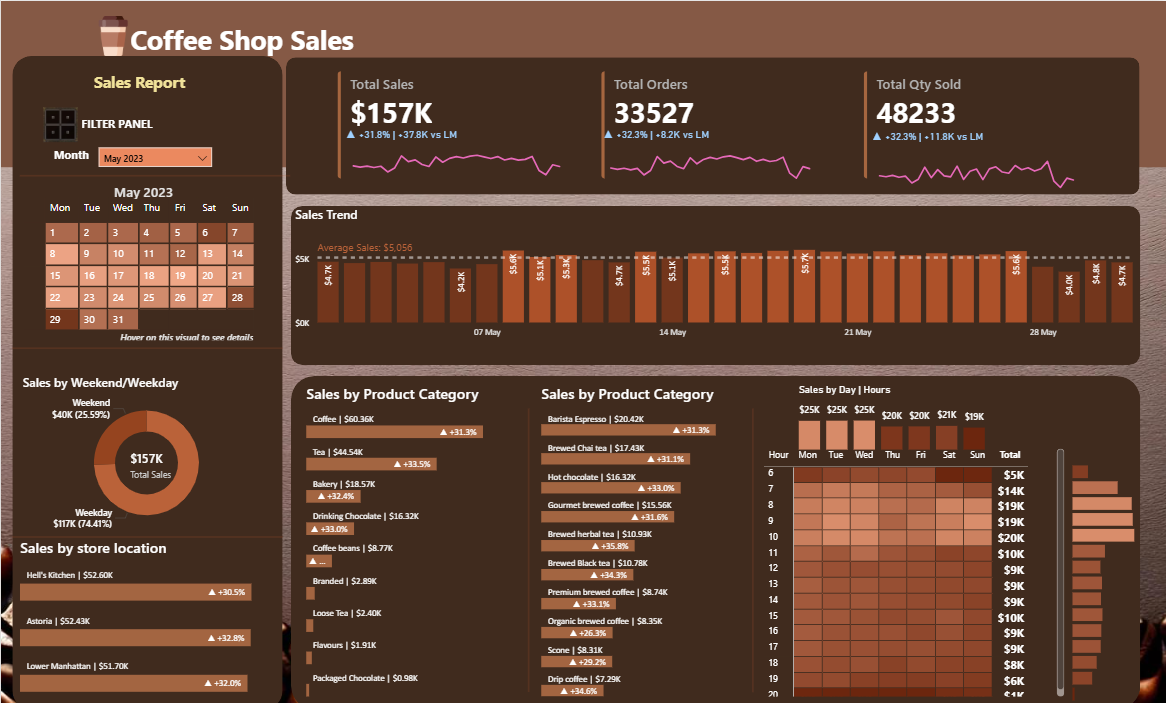

The dashboard page shown, as its layout file describes it:
{"tool":"powerbi","page":{"name":"Page 1","canvas":[1400,850],"ordinal":0},"visuals":[{"type":"shape","box":[0,0,1400.3,199.6],"z":0},{"type":"shape","box":[12.8,65.5,324.7,784.8],"z":1000},{"type":"shape","box":[342.2,67.5,1025.1,165.1],"z":2000},{"type":"slicer","fields":{"Values":["Date_Table.Month Year"]},"box":[112.6,171.1,145.6,33],"z":3000},{"type":"group","id":"g1","title":"Group 1","box":[387.4,66.9,306.2,163.8],"z":4000},{"type":"cardVisual","fields":{"Data":["Transactions.Total Sales"]},"box":[387.4,66.9,306.2,163.8],"z":4000,"group":"g1"},{"type":"cardVisual","fields":{"Data":["Transactions.Total Orders"]},"box":[703.6,66.9,306.2,163.8],"z":4000,"group":"g2"},{"type":"cardVisual","fields":{"Data":["Transactions.Total Qty Sold"]},"box":[1019.8,66.9,306.2,163.8],"z":4000,"group":"g3"},{"type":"group","id":"g2","title":"Group 1","box":[703.6,66.9,306.2,166.7],"z":5000},{"type":"group","id":"g3","title":"Group 1","box":[1019.8,66.9,306.2,166.7],"z":6000},{"type":"lineChart","fields":{"Y":["Transactions.Total Sales"],"Category":["Date_Table.Date Hierarchy.Date"]},"box":[717.7,152.5,268.7,81],"z":6000,"group":"g2"},{"type":"lineChart","fields":{"Category":["Date_Table.Date Hierarchy.Date"],"Y":["Transactions.Total Qty Sold"]},"box":[1041.1,154,262.7,79.5],"z":6000,"group":"g3"},{"type":"pivotTable","fields":{"Rows":["Date_Table.Week Number"],"Columns":["Date_Table.Day Name"],"Values":["Min(Date_Table.Day Number)"]},"box":[22.8,230.7,304.8,172.3],"z":7000},{"type":"cardVisual","fields":{"Data":["Min(Date_Table.Month Year)"]},"box":[106.8,199.4,135.3,55.5],"z":8000},{"type":"cardVisual","fields":{"Data":["Transactions.Note"]},"box":[113.9,380.3,233.6,45.6],"z":9000},{"type":"shape","box":[12.8,395.9,324.7,41.3],"z":10000},{"type":"shape","box":[22.8,189.4,324.7,41.3],"z":11000},{"type":"donutChart","title":"Sales by Weekend/Weekday","fields":{"Category":["Date_Table.Weekend/Weekday"],"Y":["Transactions.Total Sales"]},"box":[21.4,447.2,307.6,195.1],"z":12000},{"type":"cardVisual","fields":{"Data":["Transactions.Total Sales"]},"box":[126.8,524.1,115.4,66.9],"z":13000},{"type":"shape","box":[12.8,622.4,324.7,41.3],"z":14000},{"type":"clusteredBarChart","title":"Sales by store location","fields":{"Category":["Transactions.store_location"],"Y":["Transactions.PlaceHolder","Transactions.Total Sales"]},"box":[18.5,643.8,313.3,193.7],"z":15000},{"type":"shape","box":[347.5,246.4,1019.8,190.9],"z":16000},{"type":"columnChart","title":"Sales Trend","fields":{"Category":["Transactions.transaction_date"],"Y":["Transactions.Total Sales"]},"box":[347.5,246.4,1019.8,168.1],"z":17000},{"type":"shape","box":[347.5,450.1,1019.8,400.2],"z":18000},{"type":"clusteredBarChart","title":"Sales by Product Category","fields":{"Y":["Transactions.PlaceHolder","Transactions.Total Sales"],"Category":["Transactions.product_category"]},"box":[361.8,458.6,250.7,381.7],"z":19000},{"type":"shape","box":[894.5,489.3,16.5,340.7],"z":20000},{"type":"clusteredBarChart","title":"Sales by Product Category","fields":{"Y":["Transactions.PlaceHolder","Transactions.Total Sales"],"Category":["Transactions.product_type"]},"box":[643.9,459.3,250.6,381.2],"z":21000},{"type":"shape","box":[622.4,490,21.4,340.4],"z":22000},{"type":"pivotTable","fields":{"Rows":["Transactions.Hour"],"Columns":["Date_Table.Day Name"],"Values":["Transactions.Total Sales"]},"box":[911,532.8,370.7,307.7],"z":23000},{"type":"barChart","fields":{"Y":["Transactions.Total Sales"],"Category":["Transactions.Hour"]},"box":[1281.7,544.8,85.5,300.2],"z":24000},{"type":"columnChart","title":"Sales by Day | Hours","fields":{"Y":["Transactions.Total Sales"],"Category":["Date_Table.Day Name"]},"box":[953,459.3,234.1,85.5],"z":25000},{"type":"textbox","box":[149.6,20,296.2,55.5],"z":26000},{"type":"textbox","box":[58.5,171.1,67.5,28.5],"z":27000},{"type":"textbox","box":[106.6,79.5,187.6,40.5],"z":28000},{"type":"textbox","box":[91.6,133.6,127.6,33],"z":29000},{"type":"image","box":[51,123.1,40.5,51],"z":30000},{"type":"image","box":[93.1,18,82.5,48],"z":31000},{"type":"lineChart","fields":{"Category":["Date_Table.Date Hierarchy.Date"],"Y":["Transactions.Total Sales"]},"box":[407.8,152.5,277.7,75],"z":31001,"group":"g1"}]}

Visuals, with their boxes in screenshot pixels (x1, y1, x2, y2), scaled from the page's 1400x850 canvas onto the 1166x703 screenshot:
shape: (x1=0, y1=0, x2=1165, y2=165)
shape: (x1=11, y1=54, x2=281, y2=702)
shape: (x1=285, y1=56, x2=1139, y2=192)
slicer - Date_Table.Month Year: (x1=94, y1=142, x2=215, y2=169)
"Group 1" group: (x1=323, y1=55, x2=578, y2=191)
cardVisual - Transactions.Total Sales: (x1=323, y1=55, x2=578, y2=191)
cardVisual - Transactions.Total Orders: (x1=586, y1=55, x2=841, y2=191)
cardVisual - Transactions.Total Qty Sold: (x1=849, y1=55, x2=1104, y2=191)
"Group 1" group: (x1=586, y1=55, x2=841, y2=193)
"Group 1" group: (x1=849, y1=55, x2=1104, y2=193)
lineChart - Transactions.Total Sales x Date_Table.Date Hierarchy.Date: (x1=598, y1=126, x2=822, y2=193)
lineChart - Date_Table.Date Hierarchy.Date x Transactions.Total Qty Sold: (x1=867, y1=127, x2=1086, y2=193)
pivotTable - Date_Table.Week Number x Date_Table.Day Name: (x1=19, y1=191, x2=273, y2=333)
cardVisual - Min(Date_Table.Month Year): (x1=89, y1=165, x2=202, y2=211)
cardVisual - Transactions.Note: (x1=95, y1=315, x2=289, y2=352)
shape: (x1=11, y1=327, x2=281, y2=362)
shape: (x1=19, y1=157, x2=289, y2=191)
"Sales by Weekend/Weekday" donutChart: (x1=18, y1=370, x2=274, y2=531)
cardVisual - Transactions.Total Sales: (x1=106, y1=433, x2=202, y2=489)
shape: (x1=11, y1=515, x2=281, y2=549)
"Sales by store location" clusteredBarChart: (x1=15, y1=532, x2=276, y2=693)
shape: (x1=289, y1=204, x2=1139, y2=362)
"Sales Trend" columnChart: (x1=289, y1=204, x2=1139, y2=343)
shape: (x1=289, y1=372, x2=1139, y2=702)
"Sales by Product Category" clusteredBarChart: (x1=301, y1=379, x2=510, y2=695)
shape: (x1=745, y1=405, x2=759, y2=686)
"Sales by Product Category" clusteredBarChart: (x1=536, y1=380, x2=745, y2=695)
shape: (x1=518, y1=405, x2=536, y2=687)
pivotTable - Transactions.Hour x Date_Table.Day Name: (x1=759, y1=441, x2=1067, y2=695)
barChart - Transactions.Total Sales x Transactions.Hour: (x1=1067, y1=451, x2=1139, y2=699)
"Sales by Day | Hours" columnChart: (x1=794, y1=380, x2=989, y2=451)
textbox: (x1=125, y1=17, x2=371, y2=62)
textbox: (x1=49, y1=142, x2=105, y2=165)
textbox: (x1=89, y1=66, x2=245, y2=99)
textbox: (x1=76, y1=110, x2=183, y2=138)
image: (x1=42, y1=102, x2=76, y2=144)
image: (x1=78, y1=15, x2=146, y2=55)
lineChart - Date_Table.Date Hierarchy.Date x Transactions.Total Sales: (x1=340, y1=126, x2=571, y2=188)
